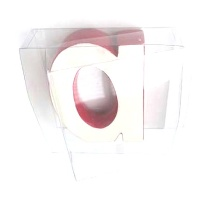plastic_box: (10, 16, 210, 187)
